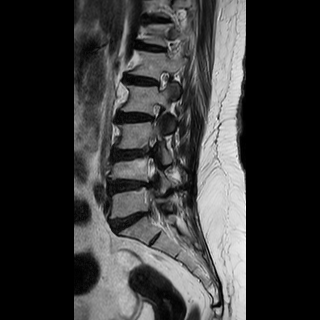RFS0: (151, 66, 173, 96)
